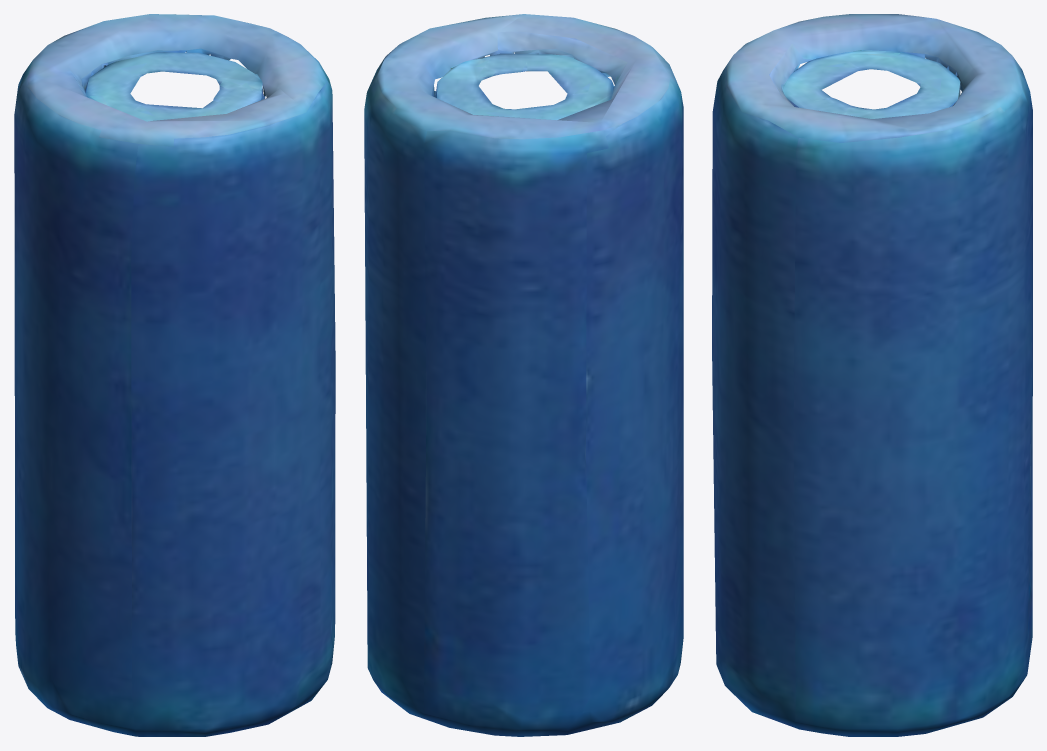
Rendered from power_cell.glb.
3 views of the same model, side by side, from view 1: azimuth 30°, elevation 25°; view 2: azimuth 150°, elevation 25°; view 3: azimuth 270°, elevation 25° (orthographic).
Visible parts, largest first — view 1: power_cell; view 2: power_cell; view 3: power_cell.
Boxes of the visible parts, x1=… form: power_cell: x1=14, y1=14, x2=335, y2=736; power_cell: x1=364, y1=14, x2=683, y2=736; power_cell: x1=712, y1=14, x2=1032, y2=736.
Bounding box in the file's own units: 0.4757 × 0.9996 × 0.4768.
Materials: 1 (1 with a texture image).
